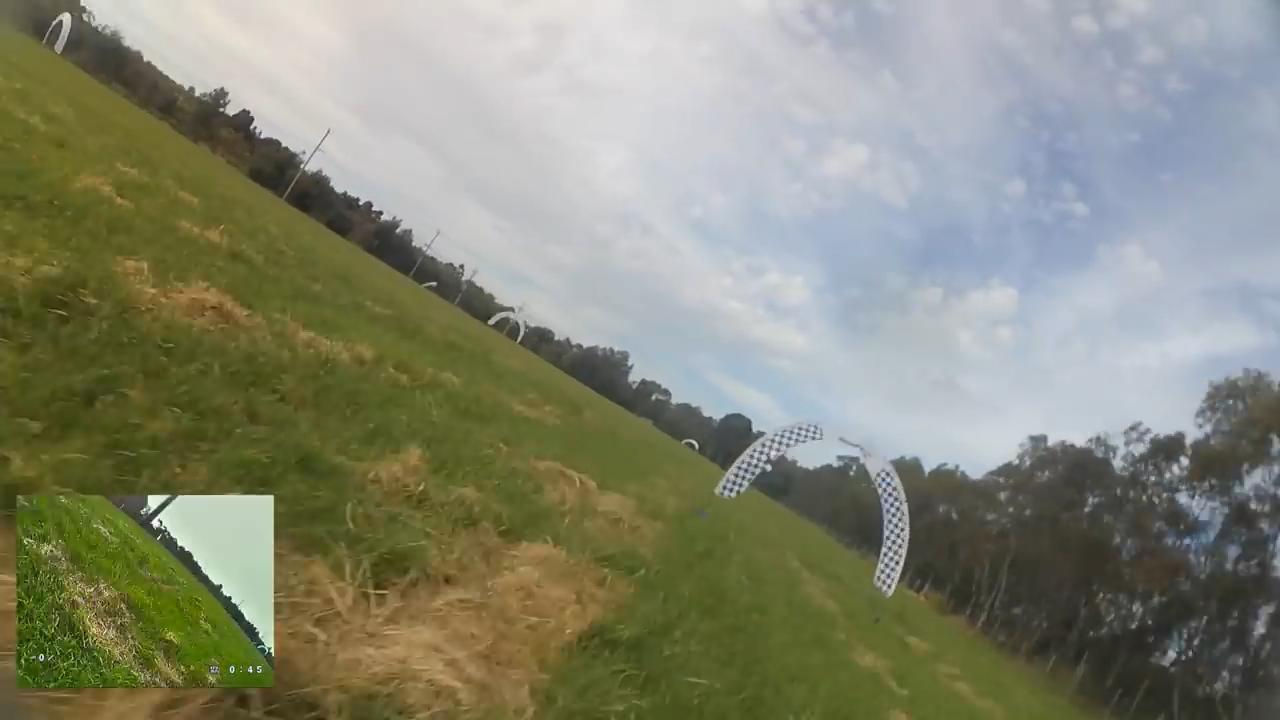gate: (708, 419, 911, 597), (488, 310, 526, 347)
